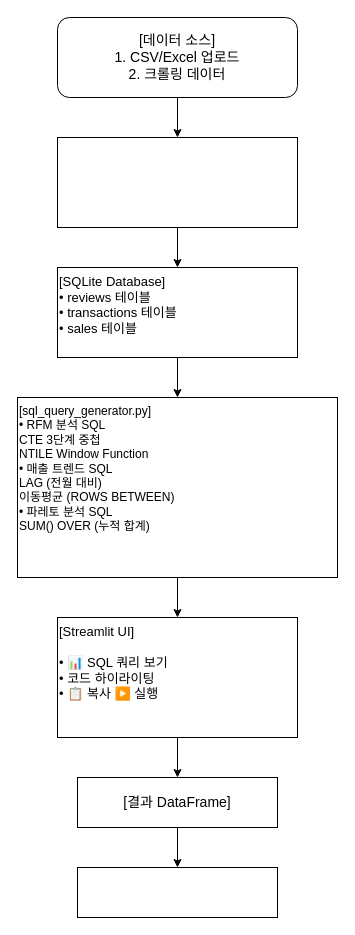
The diagram is 355 pixels wide and 935 high, and some of its shapes have lost their labels. The shapes that lost their labels are listed below. From the top down, each one's centre as x and y in pixels, then its label:
At (177,182): "[db_manager.py] • CREATE TABLE • INSERT/UPSERT • 인덱스 생성".
At (177,892): "[Plotly 차트]".
